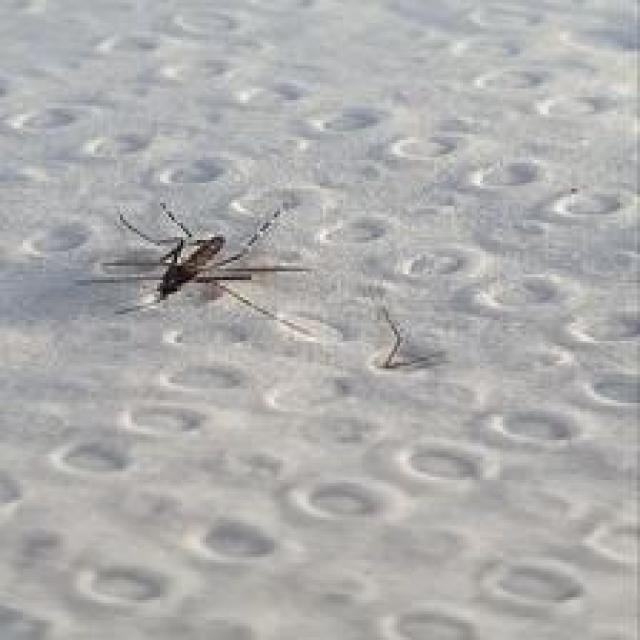Aedes albopictus: (84, 200, 339, 346)
